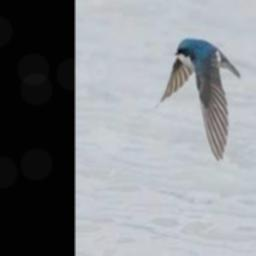Swallow: (157, 37, 241, 159)
